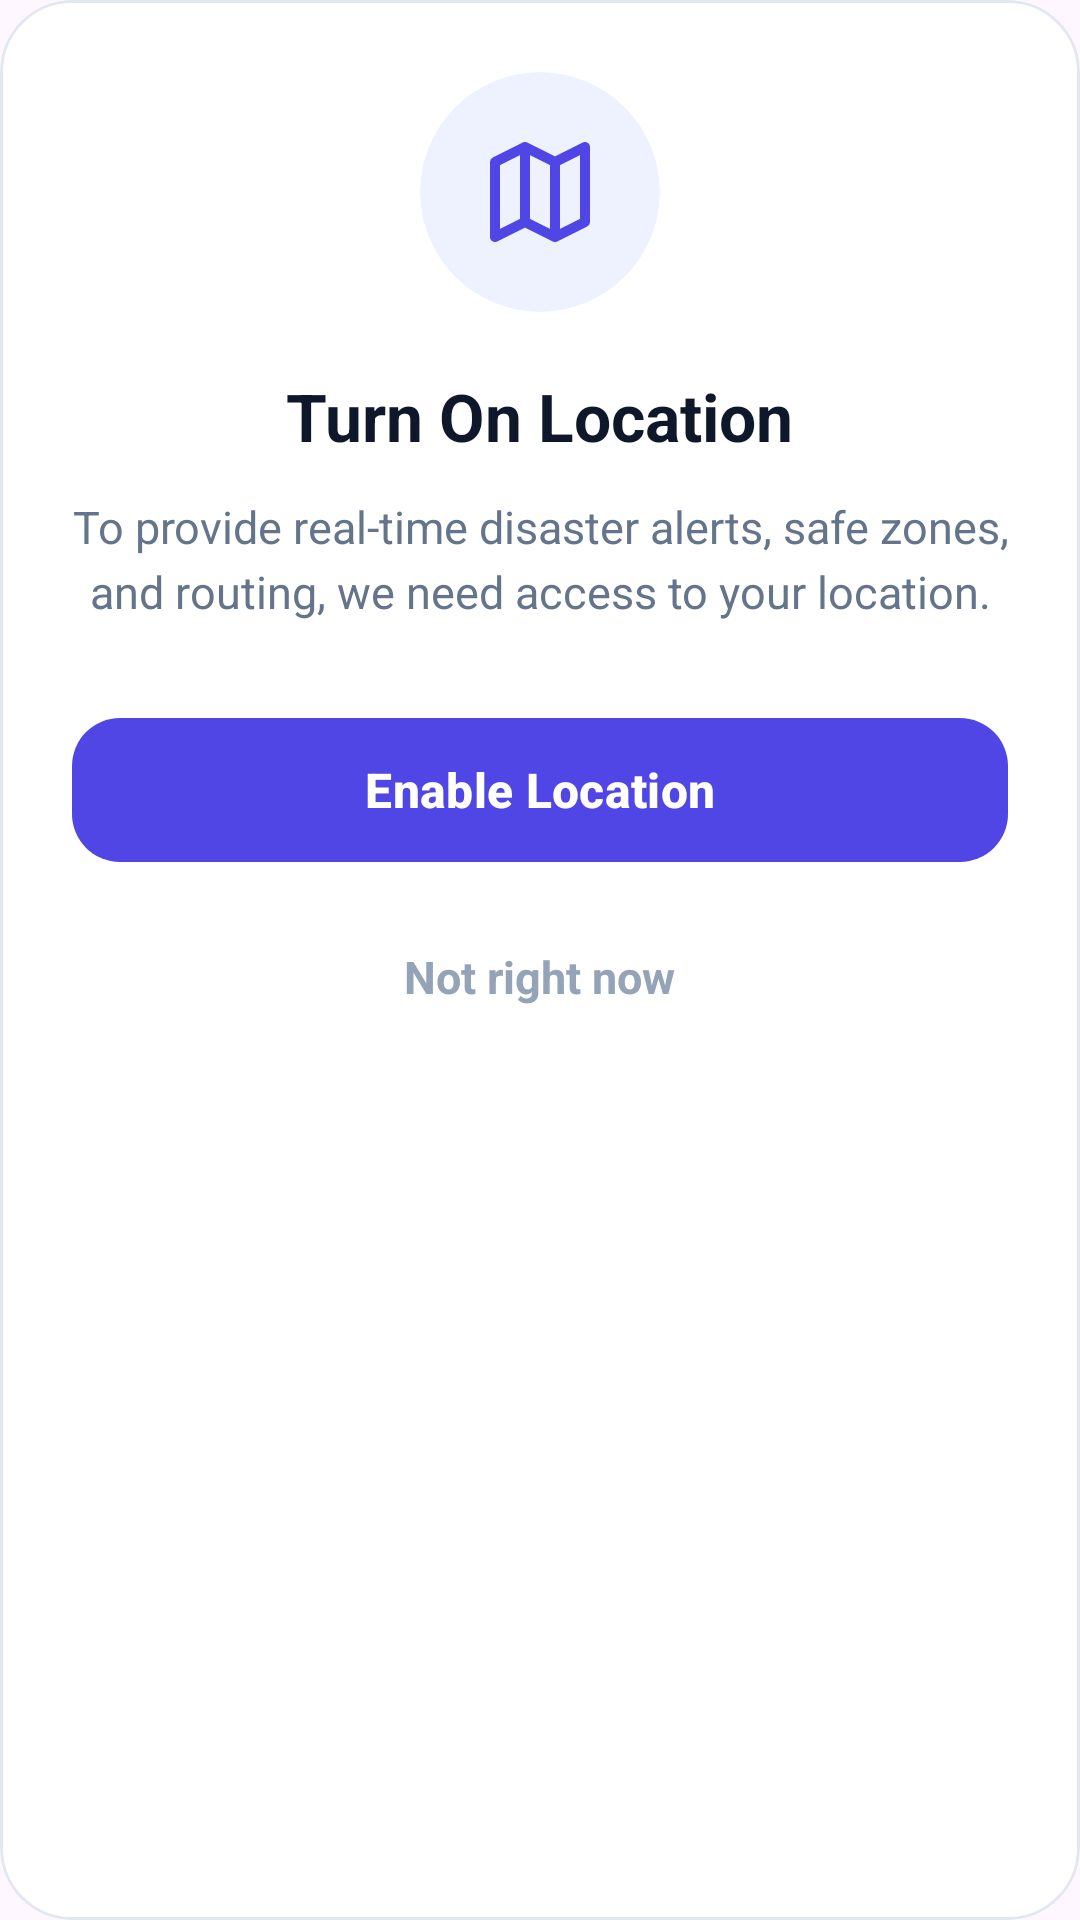

Where to tap for icons on this 1080 × 1920 app screen, as (x,y):
cool map: (540,192)
